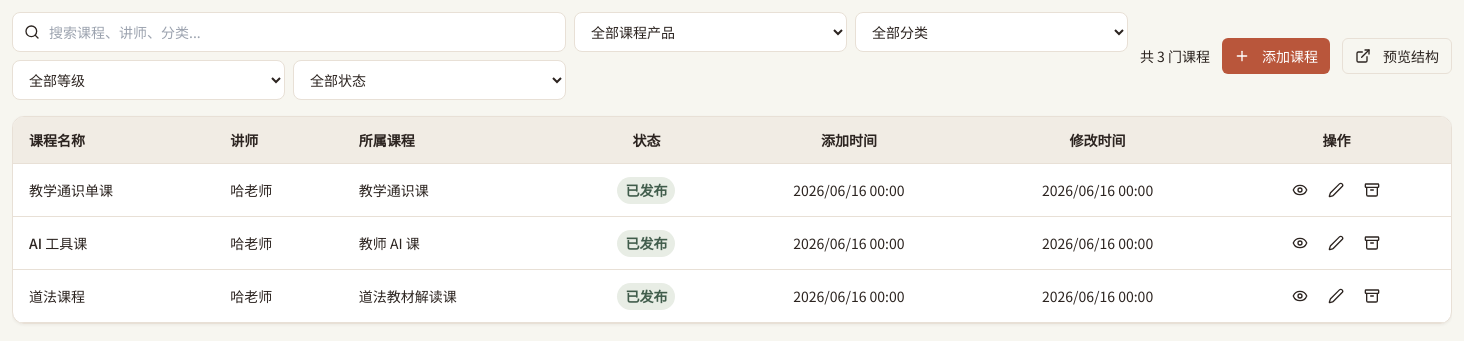
Scenario: CourseManagementSection › filters courses by product and shows the requested list columns
The image size is (1464, 341).
Expected: the text "教学通识单课" is shown, [29, 179, 113, 202]
Expected: the column heading "所属课程" is shown, [343, 117, 568, 164]
Select "教师 AI 课" in the dropdown named "筛选课程产品" at point(710, 32), box [574, 12, 847, 52]
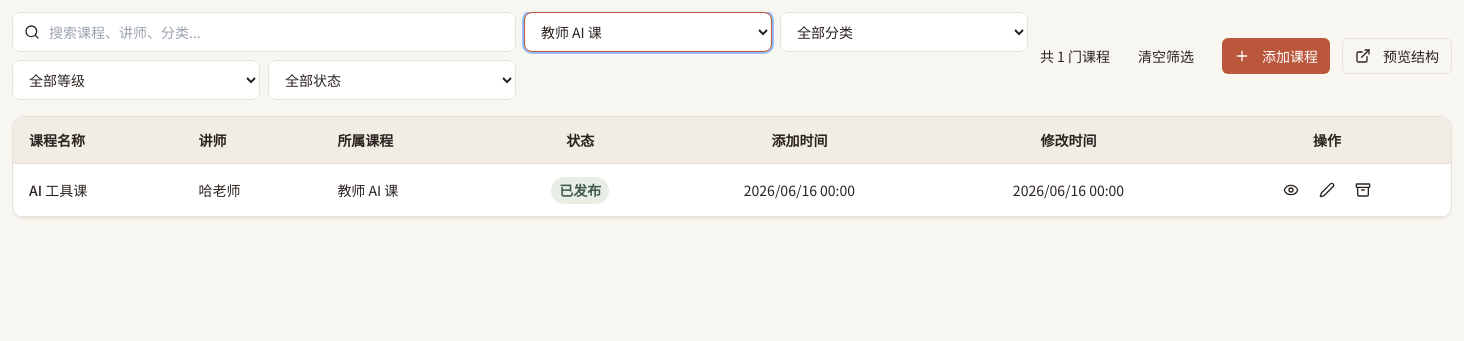
Expected: the text "AI 工具课" is shown, [29, 179, 87, 202]
Expected: the text "教学通识单课" is gone
Expected: the text "道法课程" is gone
